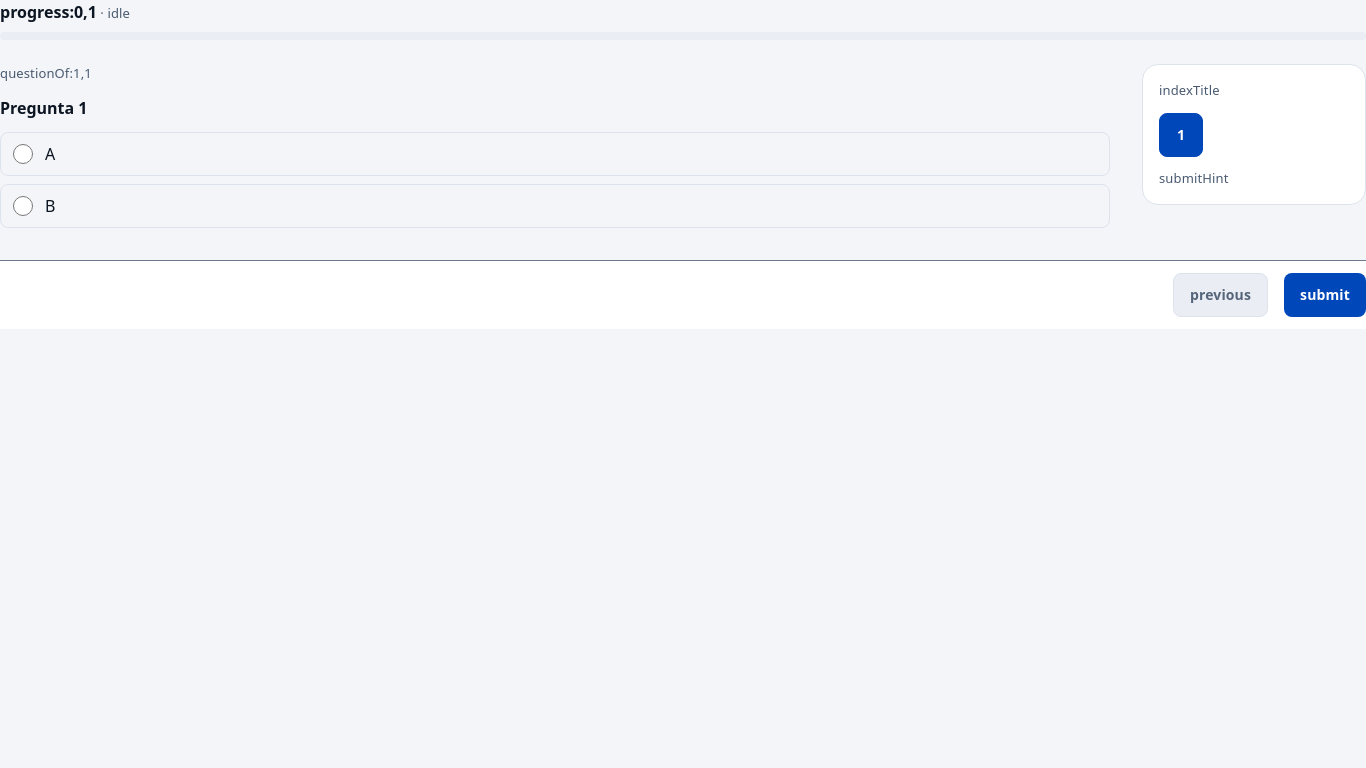
Test: entregar › con la sesión cerrada lo dice, en vez de culpar a la conexión
Click the radio button labelled "A". click: (23, 154)
box: [13, 144, 33, 164]
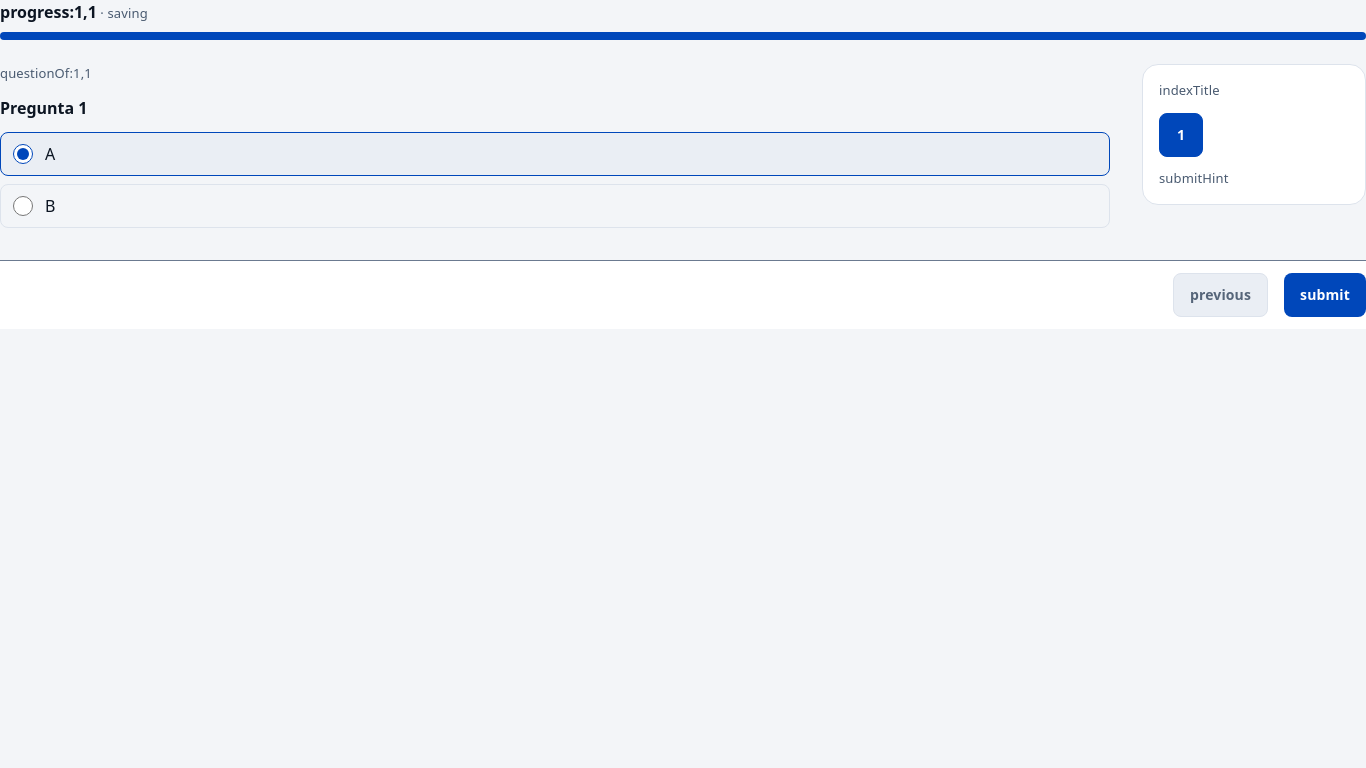
Click the button "submit". click: (1325, 294)
box: [1284, 272, 1365, 316]
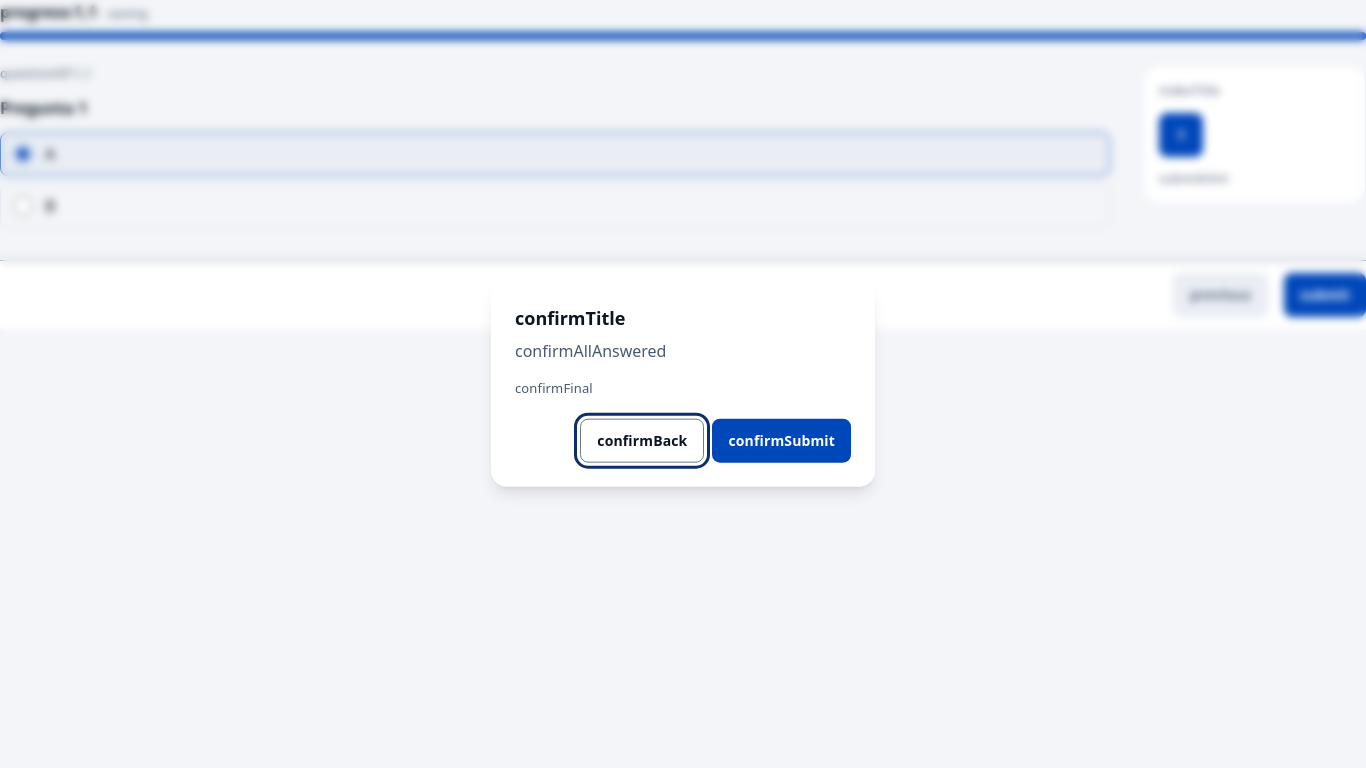
Click the button "confirmSubmit". click: (782, 440)
box: [712, 418, 851, 462]
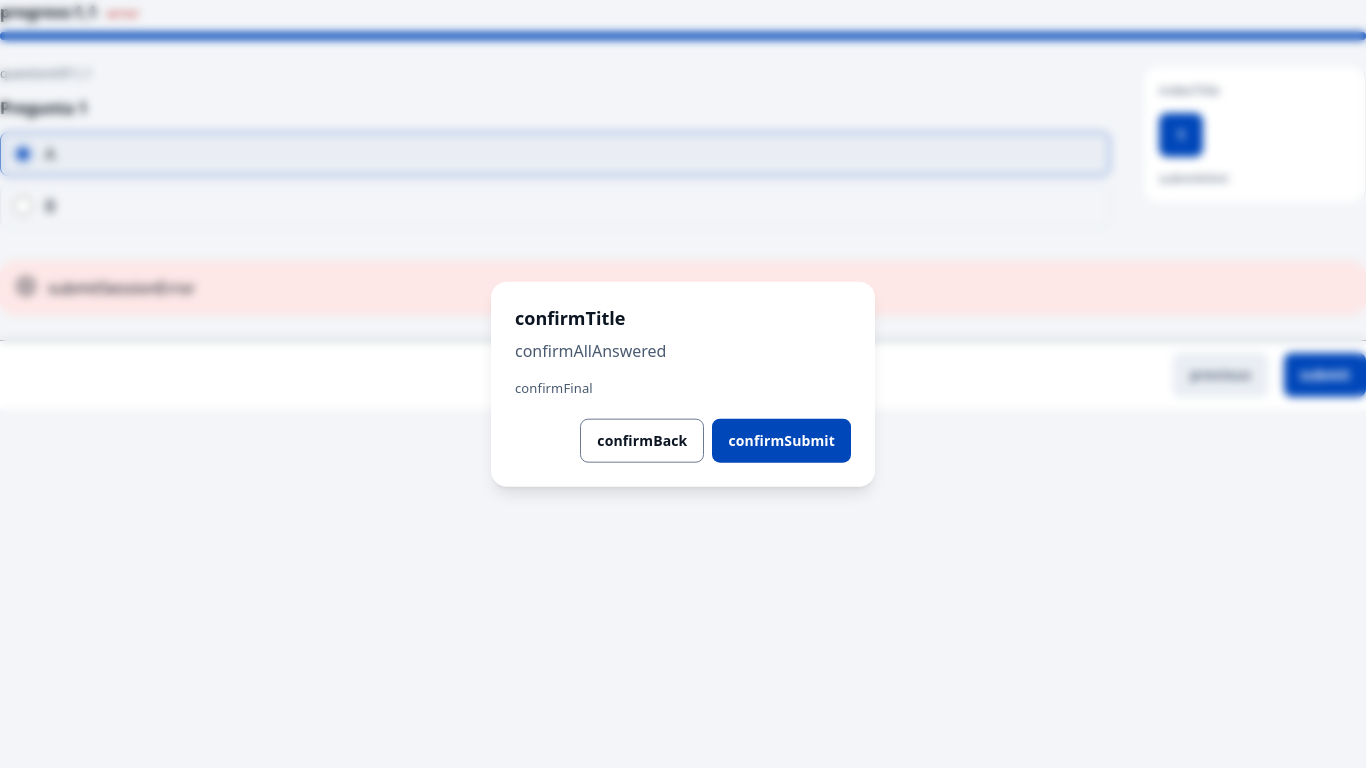
Expected: the text "submitSessionError" is shown, [48, 276, 195, 300]
